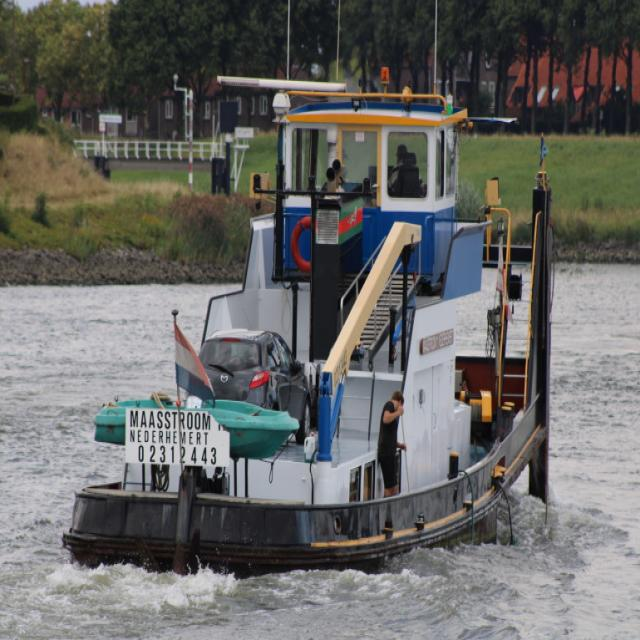tugboat: (60, 68, 561, 590)
